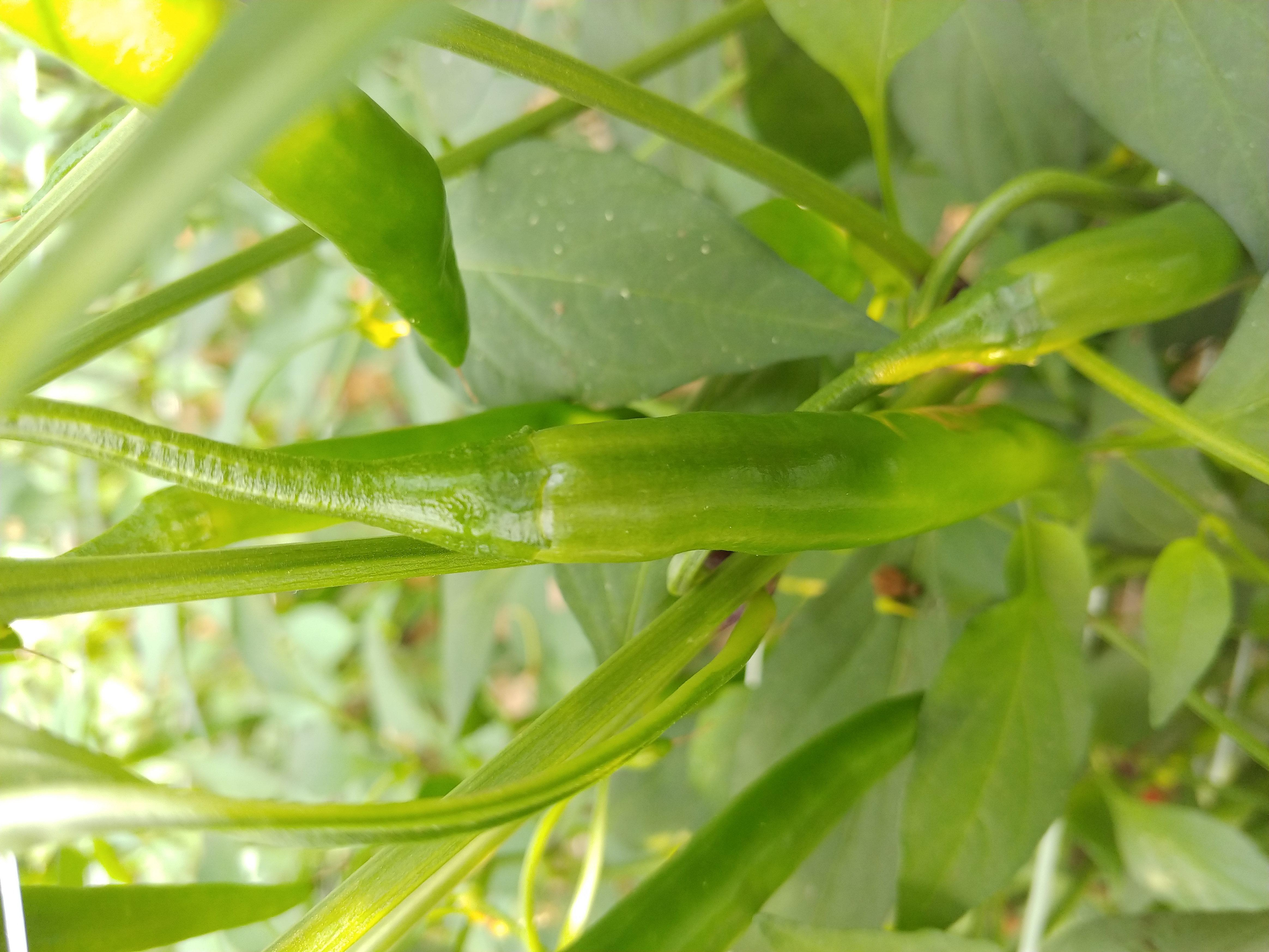Buah Cabai Sehat: (289, 393, 1075, 564)
